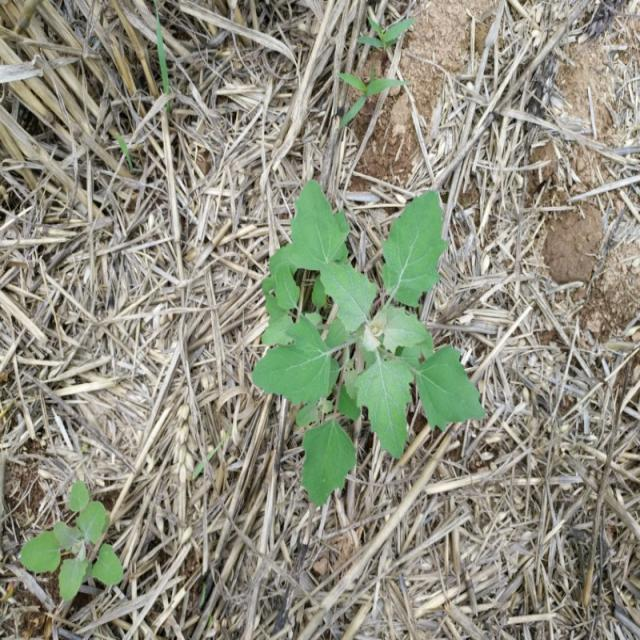ca: (251, 181, 488, 508)
